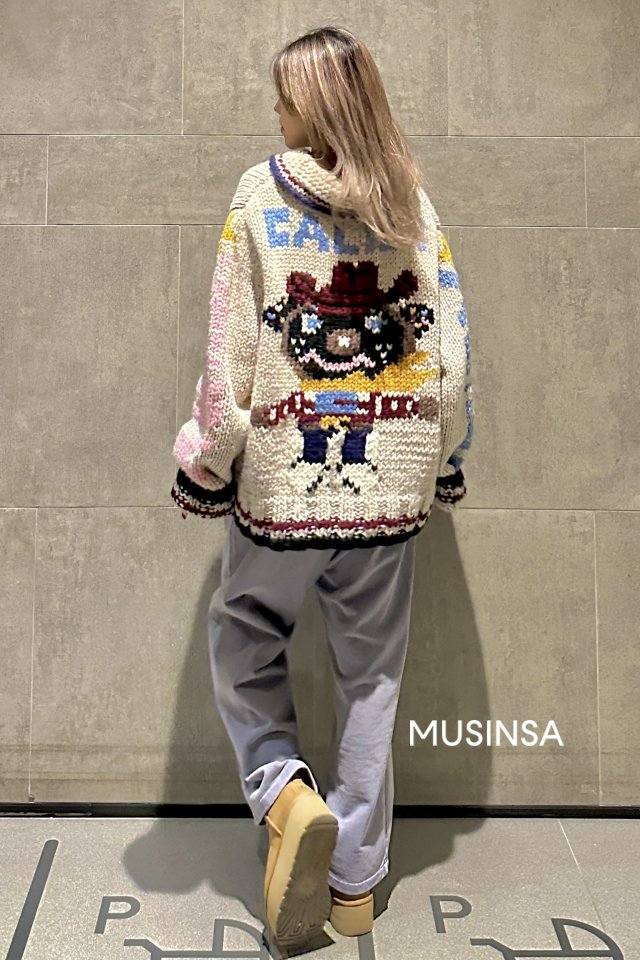Pants: (205, 497, 407, 894)
Shoes: (253, 775, 384, 960)
Top: (172, 141, 480, 551)
